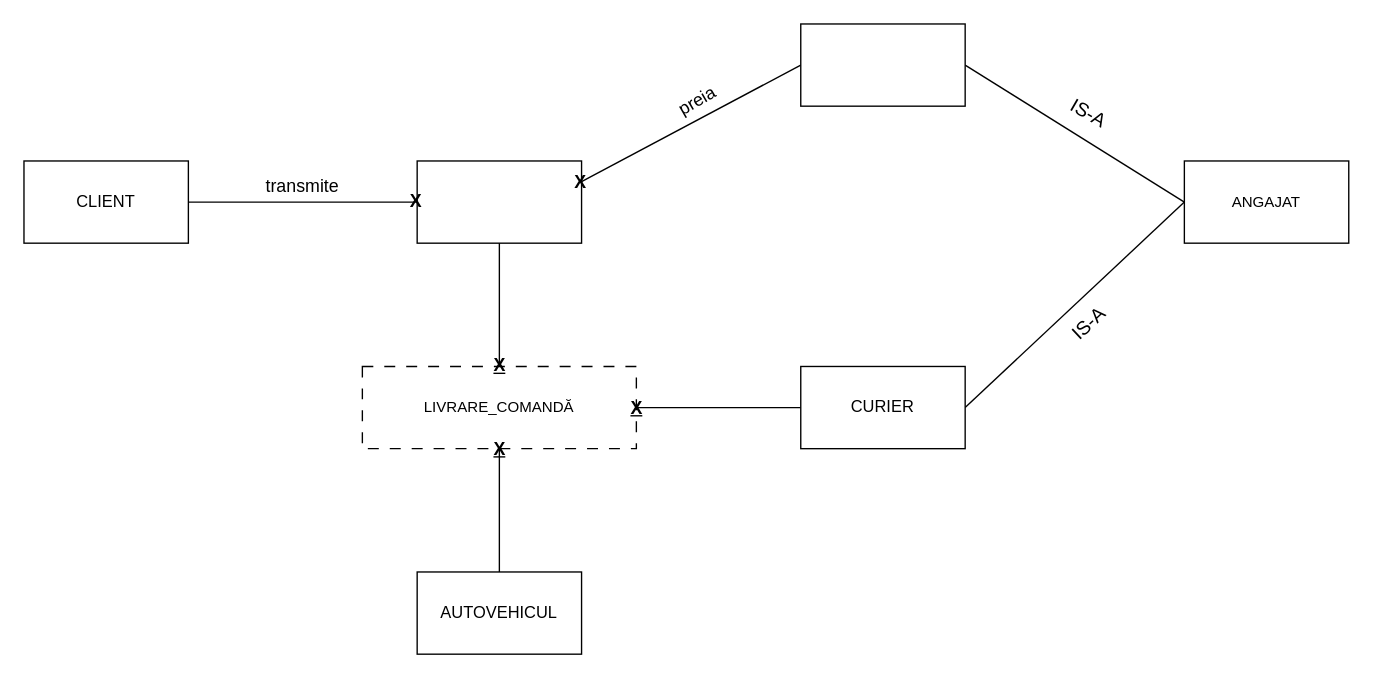
This 1373x678 diagram has some shape labels left out. Each missing label, with the box of its shape:
COMANDĂ: (416, 160, 582, 243)
FUNCȚIONAR: (799, 23, 965, 106)
